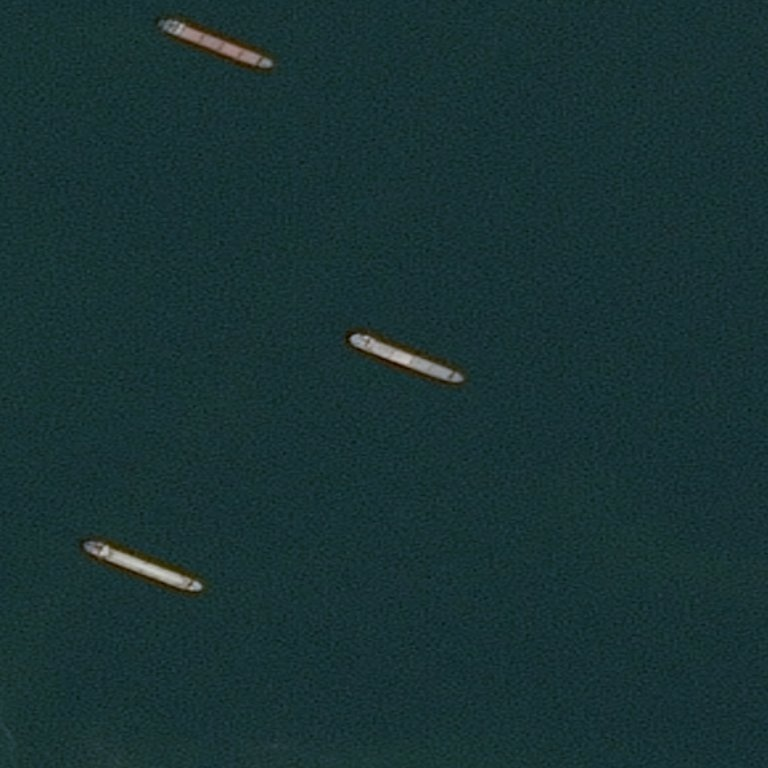ship: (81, 535, 205, 596), (347, 326, 466, 389), (152, 17, 274, 74)
